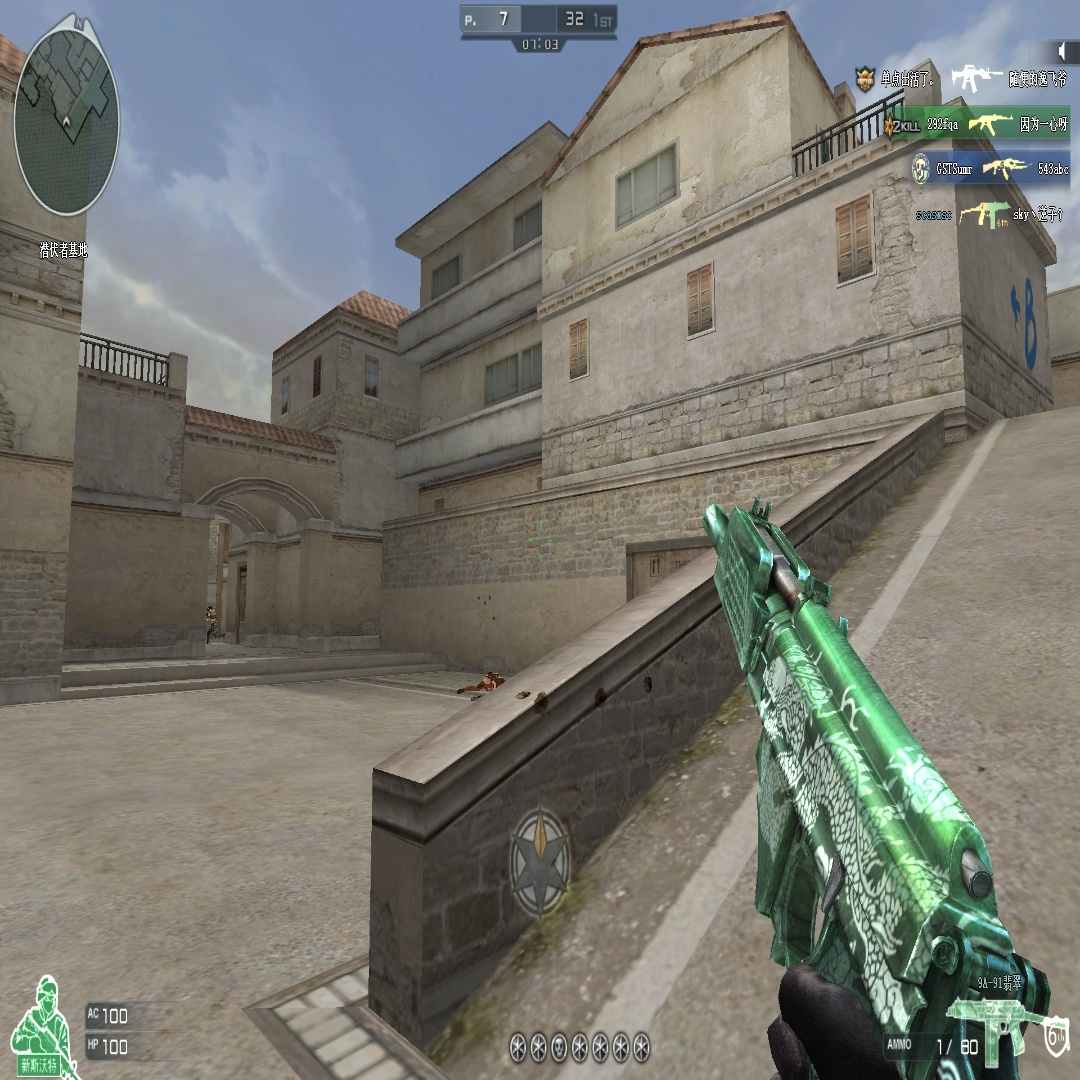head: (209, 604, 213, 612)
p: (205, 606, 215, 642)
